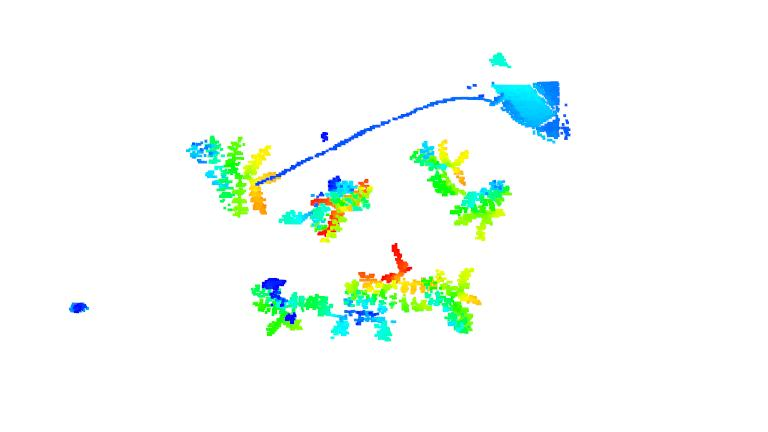chickpea: (188, 137, 277, 222), (285, 172, 379, 242), (252, 274, 324, 342), (451, 173, 514, 244), (330, 278, 396, 343), (364, 242, 427, 309), (428, 266, 487, 336), (413, 136, 470, 199)
